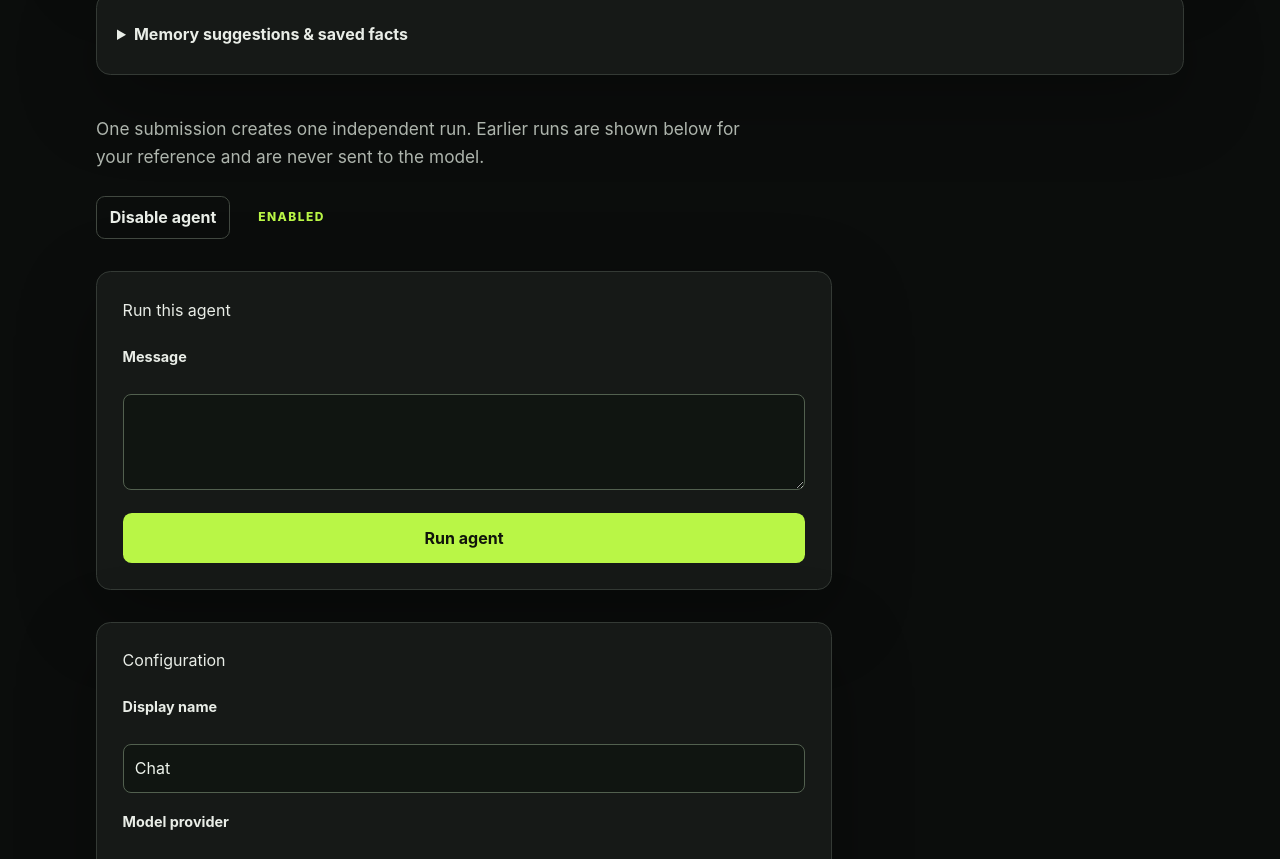
Test case: agent detail page › submits the agent and renders the queued run
(page scrolled)
Type "hello" into the text box labelled "Message" at (464, 442), box [123, 394, 805, 490]
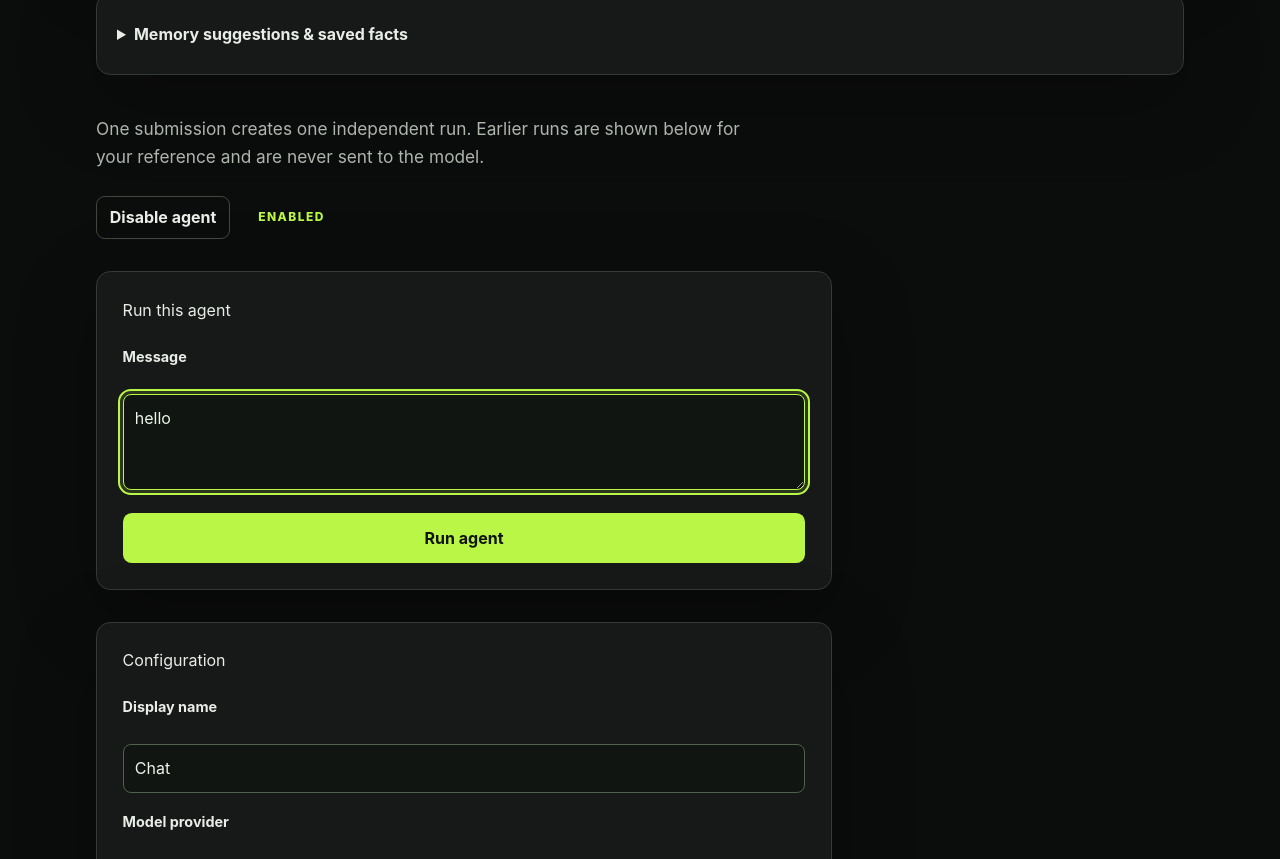
Click the button "Run agent" at (464, 538), box [123, 513, 805, 563]
(page scrolled)
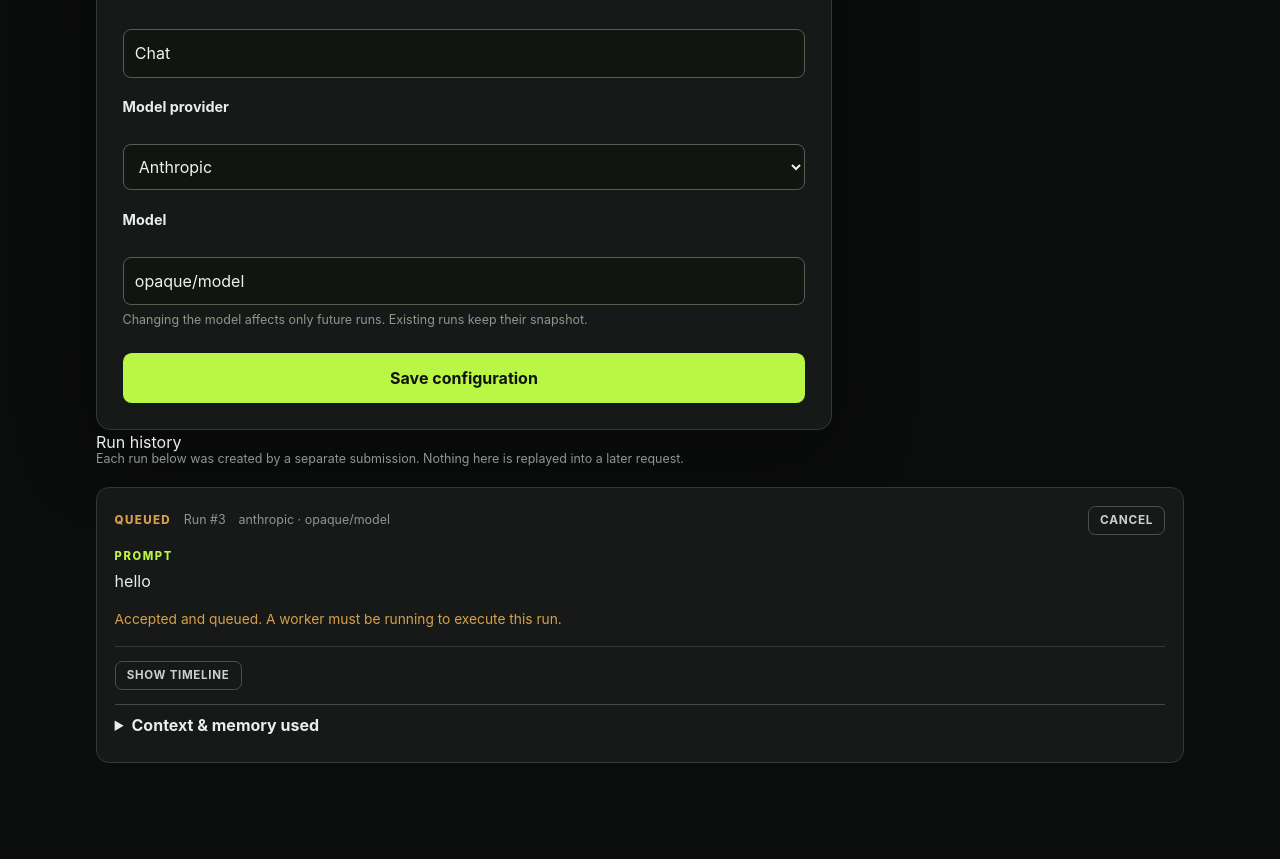
Now the text "Queued" is shown, box [115, 512, 171, 529]
Now the text "A worker must be running to execute this run" is shown, box [115, 611, 562, 627]
Now the text "Run #3" is shown, box [184, 511, 226, 530]
